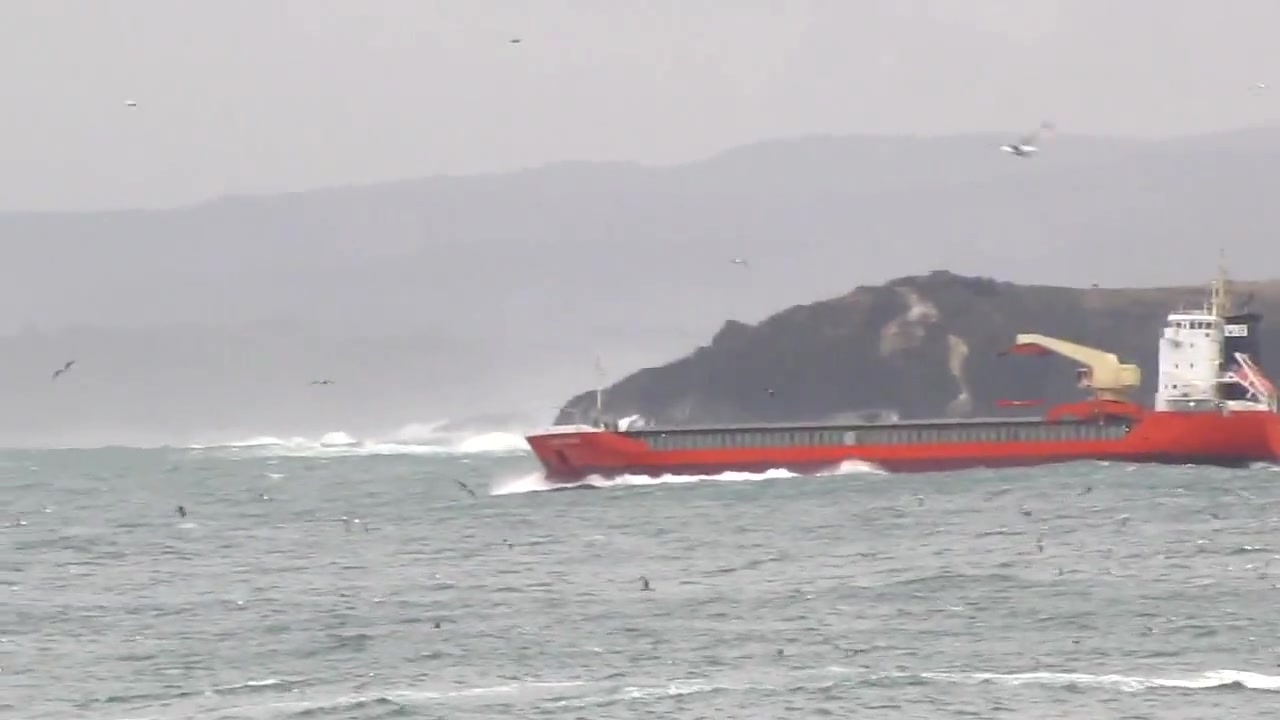boat: (522, 242, 1280, 488)
